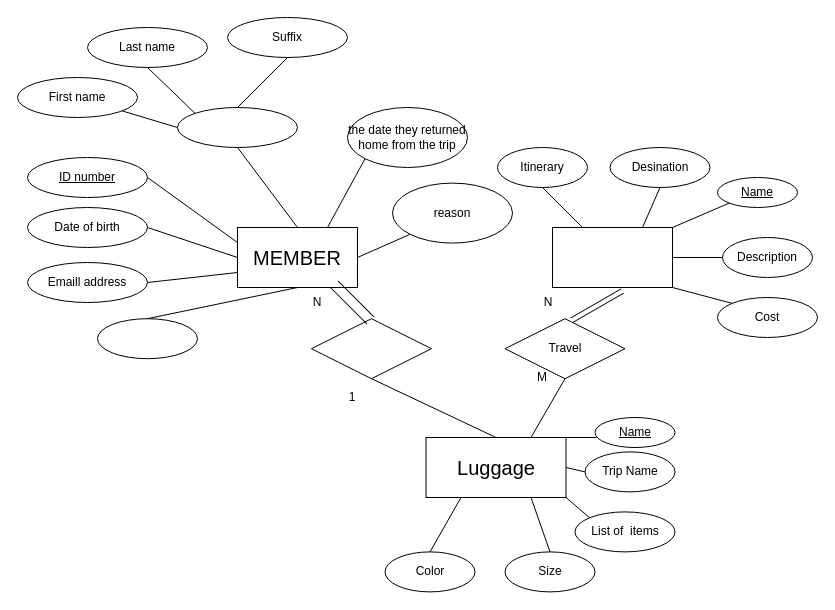
Some shapes in this 835 by 610 pixel diagram are drawn without their labels. The shapes that lost their labels are listed below. From the top down, each one's centre as x and y in pixels, then its label:
pixel 237 127: Full name
pixel 612 257: TRIP
pixel 147 338: WhatsAPP ID
pixel 371 348: Pack
